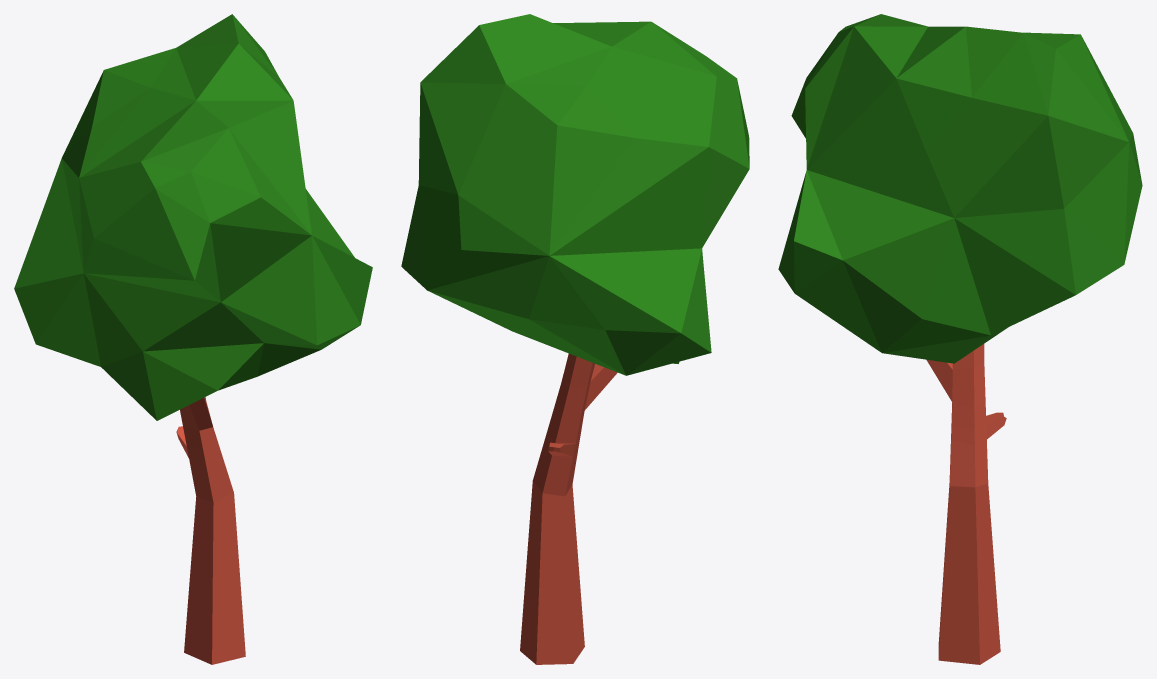
File: tree_2.fbx
3 renders of one model, left to right at view 1: azimuth 30°, elevation 25°; view 2: azimuth 150°, elevation 25°; view 3: azimuth 270°, elevation 25°, orthographic. The views are drawn at different scales.
Visible parts, largest first — view 1: Tree_2; view 2: Tree_2; view 3: Tree_2.
Part boxes in pixels (x1,y1,x2,y2): Tree_2: [14, 14, 372, 664]; Tree_2: [401, 14, 749, 664]; Tree_2: [778, 14, 1142, 664].
Bounding box in the file's own units: 3.46 × 7.74 × 3.98.
